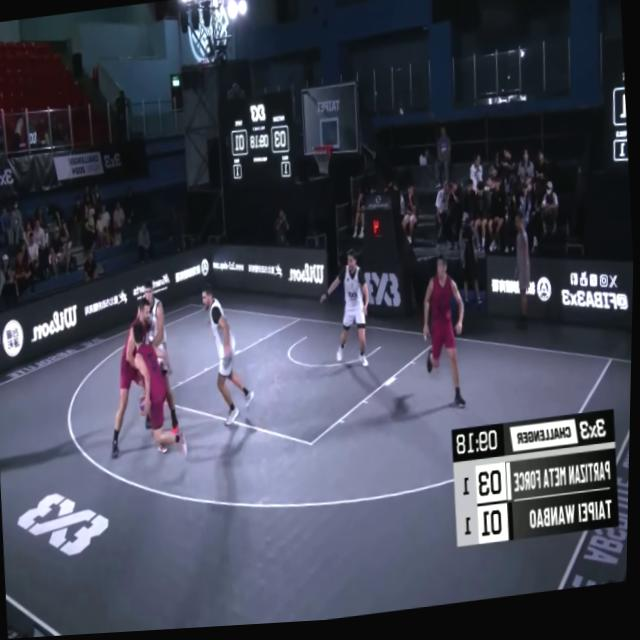ball: (139, 390, 153, 419)
hoop: (313, 146, 335, 181)
player: (100, 294, 170, 453), (198, 283, 260, 432), (121, 318, 185, 460), (131, 276, 186, 435), (418, 258, 472, 418), (319, 250, 377, 379)
